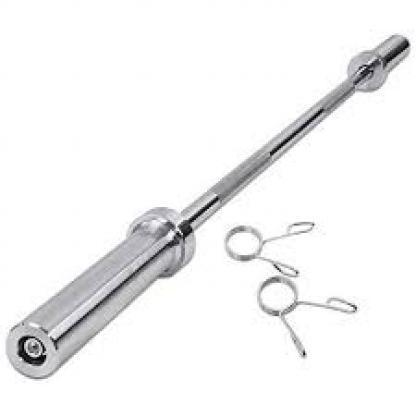Barbell: (5, 320, 70, 384)
